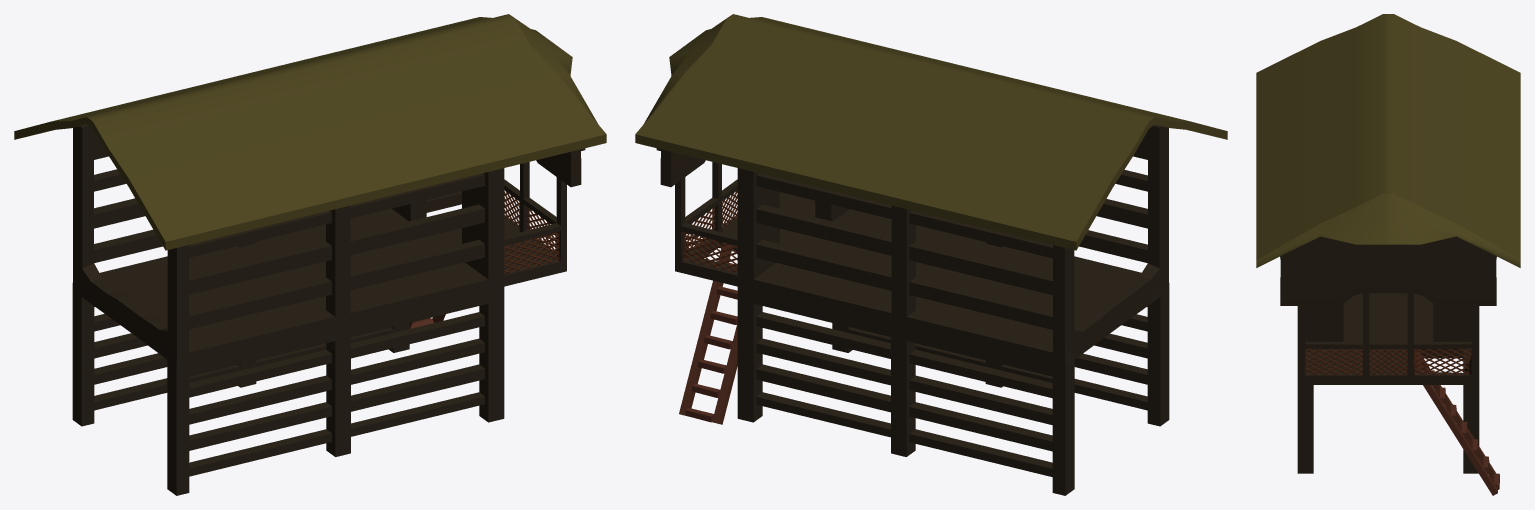
The model's file is Barn_DP_2609.fbx.
3 views of the same model, side by side, from view 1: azimuth 30°, elevation 25°; view 2: azimuth 150°, elevation 25°; view 3: azimuth 270°, elevation 25° (orthographic). The views are drawn at different scales.
Visible parts, largest first — view 1: Barn, Roof, Fence.004; view 2: Barn, Roof, Ladder, Fence.003; view 3: Roof, Barn, Ladder, Fence.001, Fence, Fence.002.
Boxes of the visible parts, <box> form: Barn: <box>72,124,585,495</box>; Roof: <box>14,14,606,250</box>; Fence.004: <box>504,232,559,273</box>; Barn: <box>656,124,1169,495</box>; Roof: <box>635,14,1227,250</box>; Ladder: <box>679,243,737,424</box>; Fence.003: <box>683,232,737,272</box>; Roof: <box>1256,14,1520,267</box>; Barn: <box>1280,236,1496,473</box>; Ladder: <box>1414,350,1499,495</box>; Fence.001: <box>1305,348,1362,374</box>; Fence: <box>1414,348,1471,374</box>; Fence.002: <box>1369,349,1407,374</box>.
Size of the model in its own units: 3266 by 2365 by 1843.
